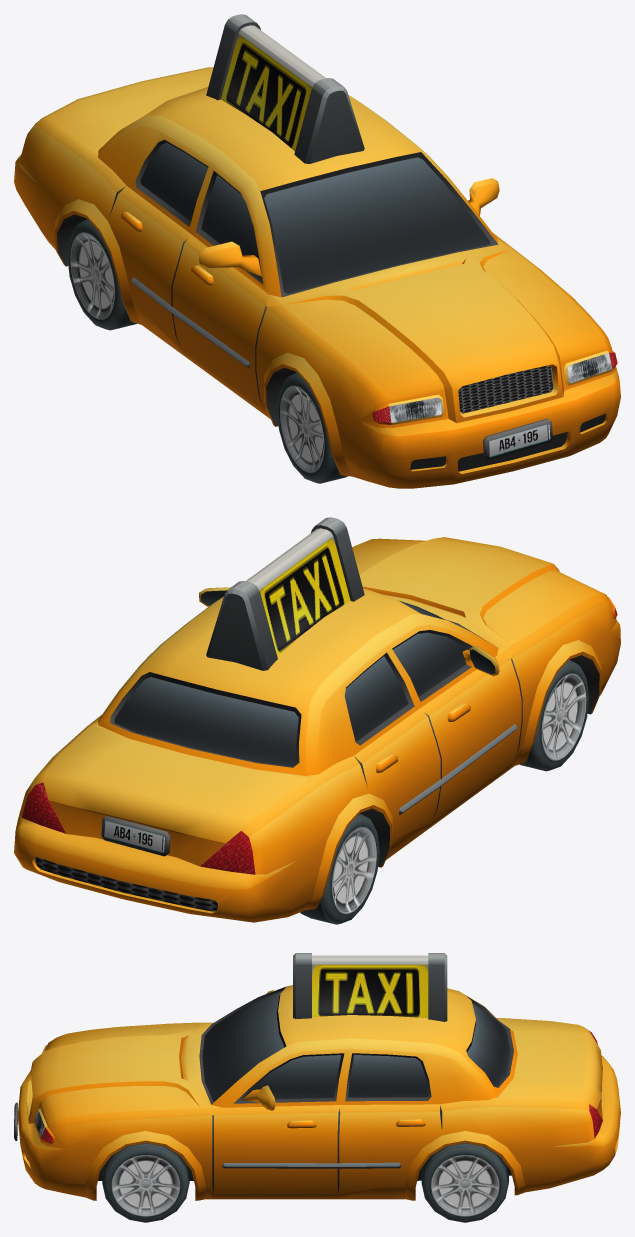
The model's file is VHC0110010.FBX.
3 views of the same model, one above another, from view 1: azimuth 30°, elevation 25°; view 2: azimuth 150°, elevation 25°; view 3: azimuth 270°, elevation 25° (orthographic). The views are drawn at different scales.
Parts seen in each view (by area): view 1: smVHC0110010; view 2: smVHC0110010; view 3: smVHC0110010.
Boxes of the visible parts, x1,y1,x2,y2 form: smVHC0110010: (14,14,620,488); smVHC0110010: (14,517,620,924); smVHC0110010: (14,953,620,1222).
Size of the model in its own units: 1.6 by 1.49 by 3.7.
Materials: 1 (1 with a texture image).
